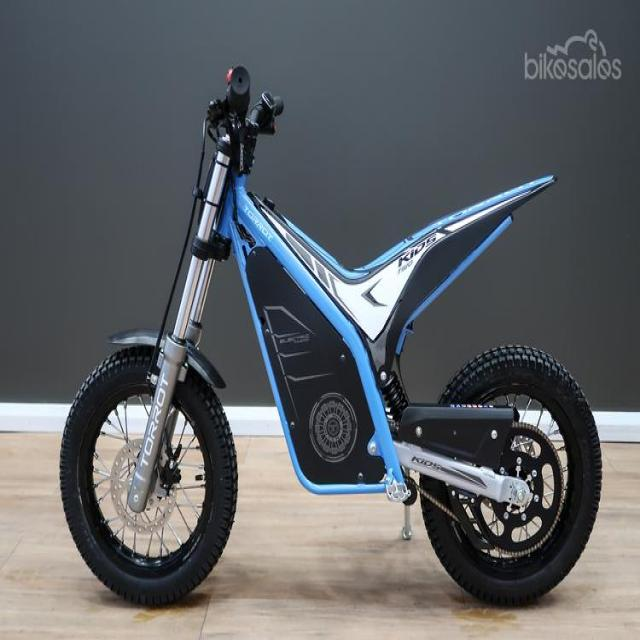Motorcycle: (60, 67, 602, 607)
